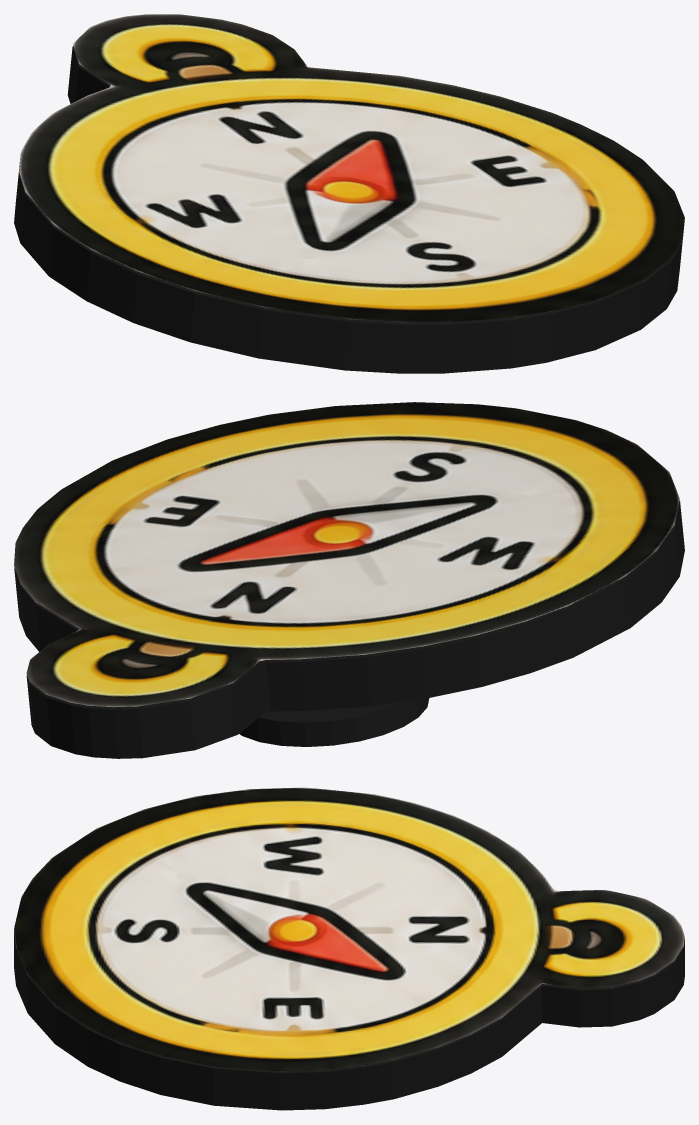
File: travel-compass.glb
3 renders of one model, top to bottom at view 1: azimuth 30°, elevation 25°; view 2: azimuth 150°, elevation 25°; view 3: azimuth 270°, elevation 25°, orthographic. The views are drawn at different scales.
Parts seen in each view (by area): view 1: TRAVEL_Compass_MODEL; view 2: TRAVEL_Compass_MODEL; view 3: TRAVEL_Compass_MODEL.
Boxes of the visible parts, left/top/right/bottom form: TRAVEL_Compass_MODEL: left=14, top=14, right=684, bottom=373; TRAVEL_Compass_MODEL: left=14, top=402, right=684, bottom=758; TRAVEL_Compass_MODEL: left=14, top=787, right=684, bottom=1110.
Size of the model in its own units: 0.3237 by 0.0996 by 0.394.
3 materials, 1 textured.
